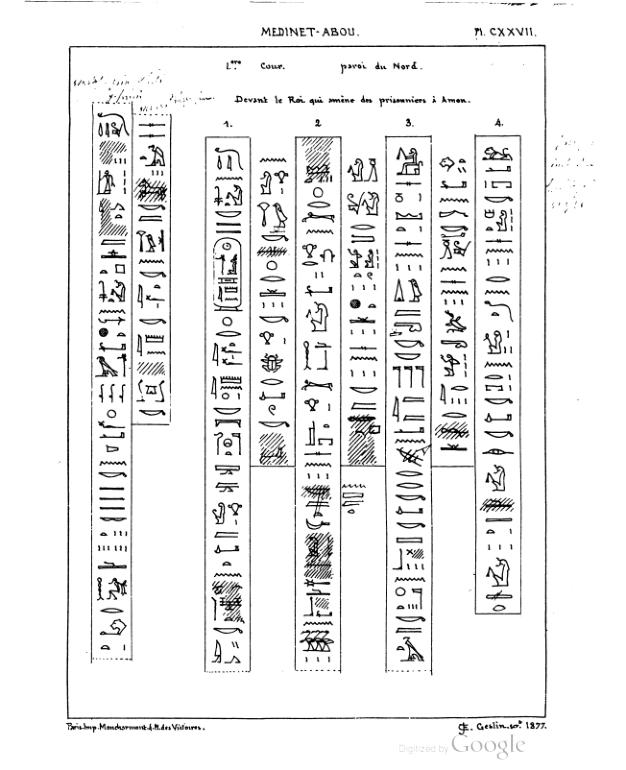circle: (211, 237, 244, 315)
